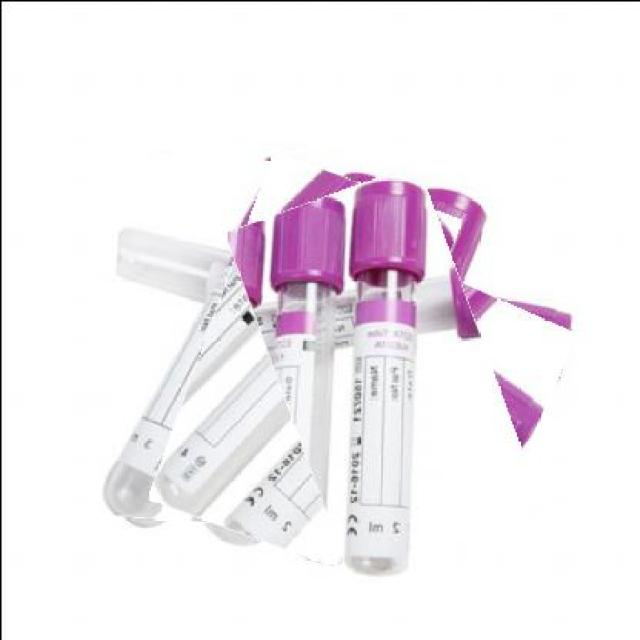Experimental-tube: (89, 186, 571, 414), (254, 173, 517, 576), (175, 162, 432, 553), (105, 152, 328, 523)
